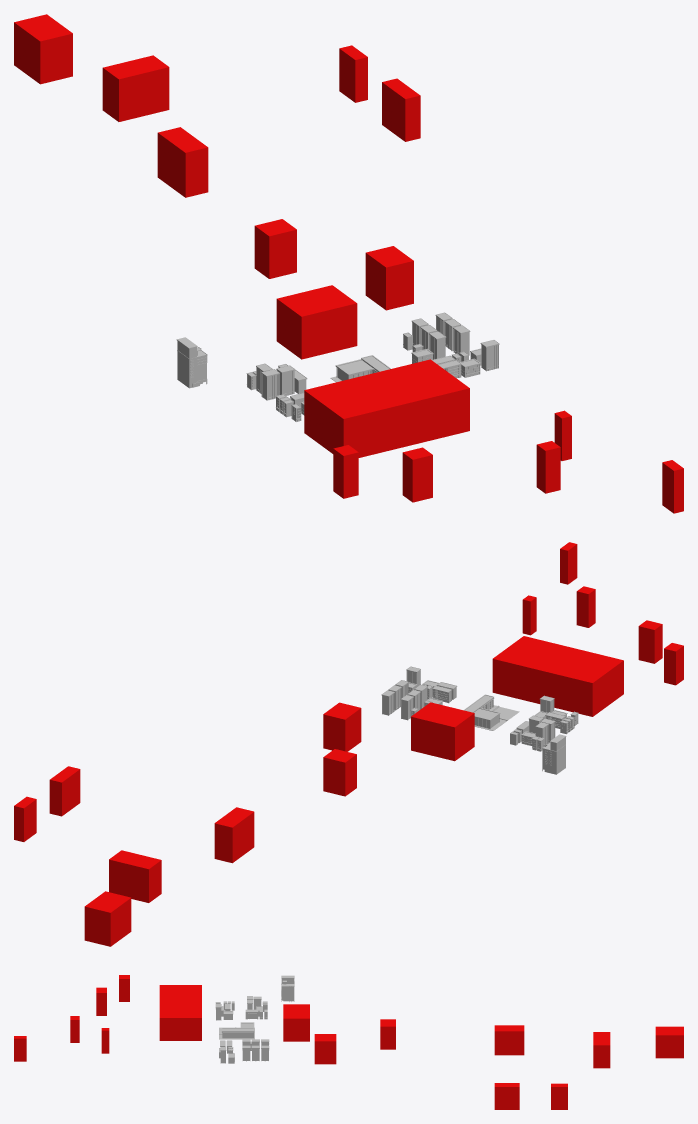
The model's file is building_0423_dummy.fbx.
3 views of the same model, one above another, from view 1: azimuth 30°, elevation 25°; view 2: azimuth 150°, elevation 25°; view 3: azimuth 270°, elevation 25° (orthographic). The views are drawn at different scales.
Visible parts, largest first — view 1: main_bd_dummy_park, main_bd_dummy_dogebuilding, main_bd_dummy_dogeweaponsystem, main_bd_dummy_warehouse, main_bd_dummy_risebuilding, main_bd_dummy_departmentstore, main_bd_dummy_hotelcasino, main_bd_dummy_hideout, main_bd_dummy_policeoffice, main_bd_dummy_maxbar, main_bd_dummy_church, main_structure_hospital (+4 smaller); view 2: main_bd_dummy_park, main_bd_dummy_dogebuilding, main_bd_dummy_dogeweaponsystem, main_bd_dummy_warehouse, main_bd_dummy_risebuilding, main_bd_dummy_departmentstore, main_bd_dummy_hotelcasino, main_bd_dummy_hideout, main_structure_school, main_bd_dummy_policeoffice, main_bd_dummy_maxbar, main_structure_hospital (+3 smaller); view 3: main_bd_dummy_park, main_bd_dummy_dogebuilding, main_bd_dummy_risebuilding, main_bd_dummy_warehouse, main_bd_dummy_departmentstore, main_bd_dummy_hideout, main_bd_dummy_dogeweaponsystem, main_structure_school, main_bd_dummy_hotelcasino, main_bd_dummy_maxbar, main_structure_hospital, main_bd_dummy_kylefix (+4 smaller).
Boxes of the visible parts, <box> form: main_bd_dummy_park: <box>304,359,469,457</box>; main_bd_dummy_dogebuilding: <box>276,285,357,359</box>; main_bd_dummy_dogeweaponsystem: <box>102,55,169,121</box>; main_bd_dummy_warehouse: <box>14,14,72,84</box>; main_bd_dummy_risebuilding: <box>157,127,208,197</box>; main_bd_dummy_departmentstore: <box>365,246,413,310</box>; main_bd_dummy_hotelcasino: <box>254,219,296,278</box>; main_bd_dummy_hideout: <box>382,78,420,141</box>; main_bd_dummy_policeoffice: <box>402,447,432,502</box>; main_bd_dummy_maxbar: <box>339,45,367,102</box>; main_bd_dummy_church: <box>333,445,358,498</box>; main_structure_hospital: <box>176,337,207,388</box>; main_bd_dummy_park: <box>492,636,623,716</box>; main_bd_dummy_dogebuilding: <box>411,702,474,761</box>; main_bd_dummy_dogeweaponsystem: <box>109,850,161,902</box>; main_bd_dummy_warehouse: <box>84,891,131,946</box>; main_bd_dummy_risebuilding: <box>214,807,254,863</box>; main_bd_dummy_departmentstore: <box>323,702,361,751</box>; main_bd_dummy_hotelcasino: <box>323,749,356,796</box>; main_bd_dummy_hideout: <box>49,766,80,816</box>; main_structure_school: <box>464,694,519,730</box>; main_bd_dummy_policeoffice: <box>638,620,662,663</box>; main_bd_dummy_maxbar: <box>14,796,36,841</box>; main_structure_hospital: <box>542,734,566,774</box>; main_bd_dummy_park: <box>159,985,201,1040</box>; main_bd_dummy_dogebuilding: <box>283,1004,309,1041</box>; main_bd_dummy_risebuilding: <box>494,1025,524,1055</box>; main_bd_dummy_warehouse: <box>655,1026,683,1058</box>; main_bd_dummy_departmentstore: <box>314,1034,336,1064</box>; main_bd_dummy_hideout: <box>494,1083,519,1109</box>; main_bd_dummy_dogeweaponsystem: <box>593,1032,610,1068</box>; main_structure_school: <box>219,1022,254,1039</box>; main_bd_dummy_hotelcasino: <box>380,1019,395,1049</box>; main_bd_dummy_maxbar: <box>551,1083,567,1109</box>; main_structure_hospital: <box>281,975,294,1001</box>; main_bd_dummy_kylefix: <box>14,1036,26,1061</box>.
Bounding box in the file's own units: 51073 × 5119 × 128400.
